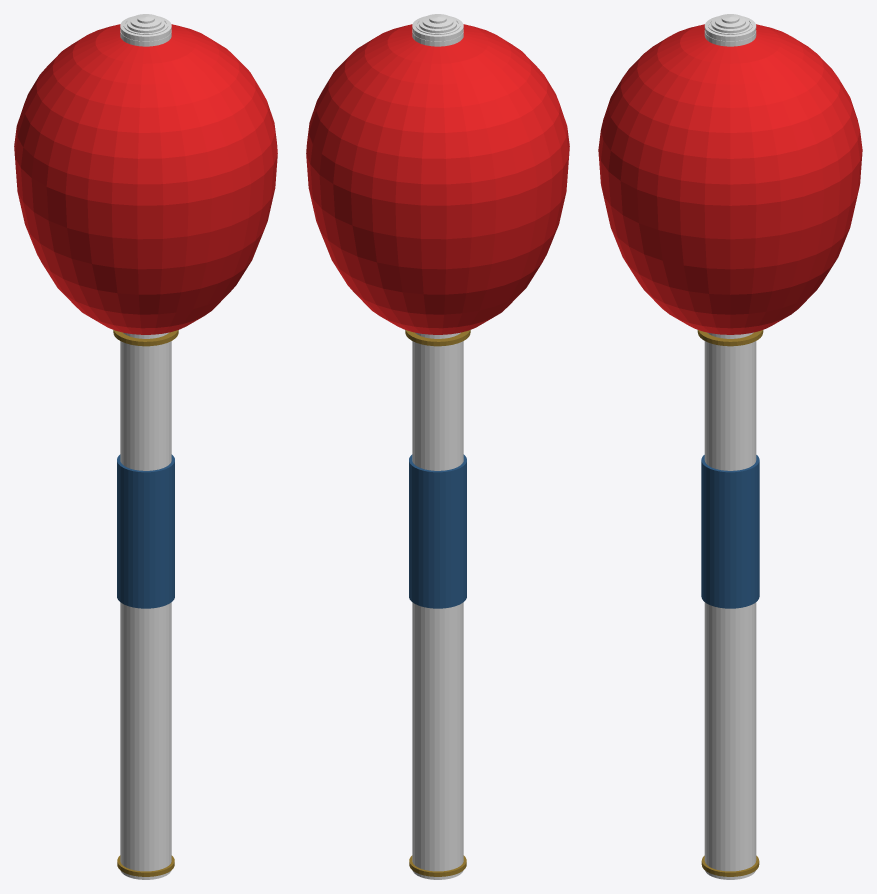
File: Lever Handle 1 2.fbx
3 views of the same model, side by side, from view 1: azimuth 30°, elevation 25°; view 2: azimuth 150°, elevation 25°; view 3: azimuth 270°, elevation 25° (orthographic).
Parts seen in each view (by area): view 1: Sphere; view 2: Sphere; view 3: Sphere.
Boxes of the visible parts, x1,y1,x2,y2 form: Sphere: [14, 14, 277, 879]; Sphere: [306, 14, 569, 879]; Sphere: [598, 14, 862, 879].
Bounding box in the file's own units: 53.03 × 189 × 53.03.
